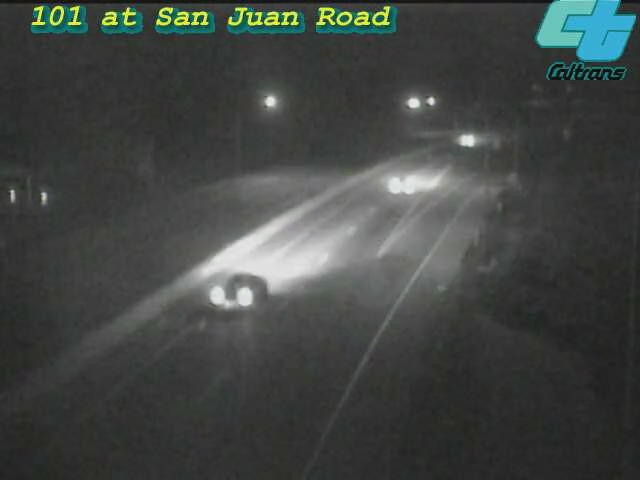vehicle: (366, 144, 446, 224), (210, 248, 290, 328), (445, 115, 495, 165)
